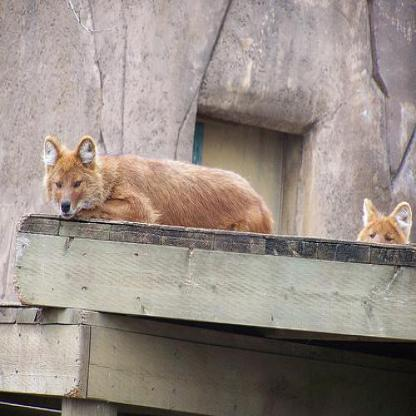dhole: (42, 134, 274, 234), (355, 195, 410, 245)
